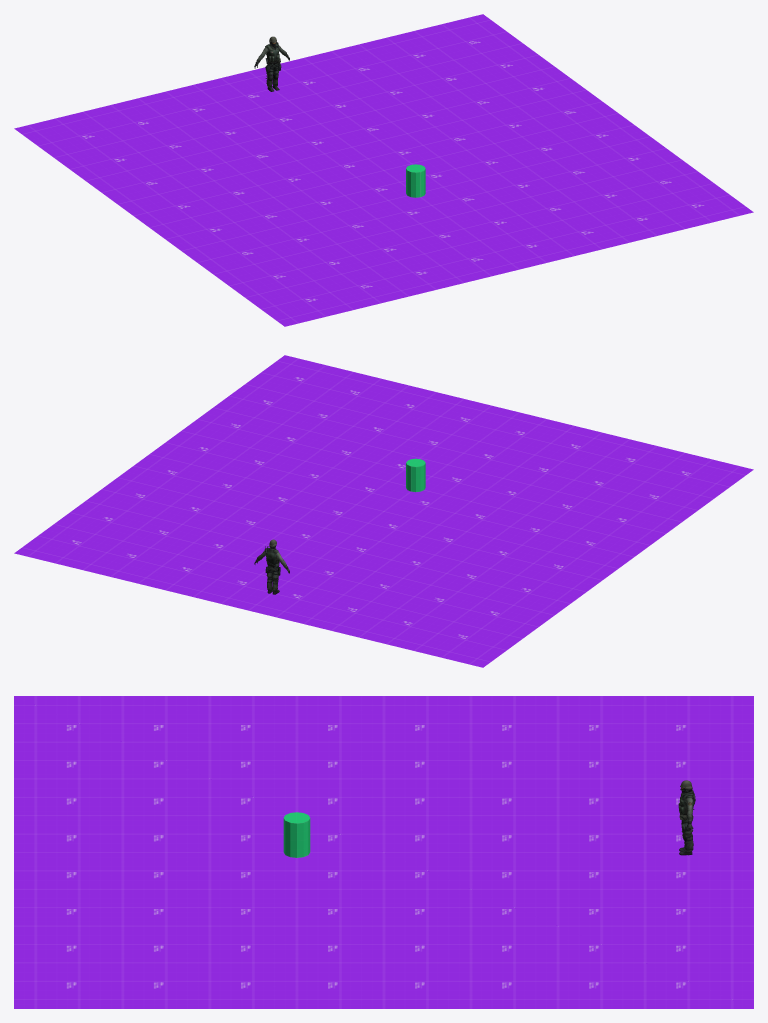
3 views of the same model, one above another, from view 1: azimuth 30°, elevation 25°; view 2: azimuth 150°, elevation 25°; view 3: azimuth 270°, elevation 25° (orthographic). The views are drawn at different scales.
Visible parts, largest first — view 1: Plane, Object_2, Cylinder; view 2: Plane, Object_2, Cylinder; view 3: Plane, Cylinder, Object_2.
Boxes of the visible parts, x1,y1,x2,y2 form: Plane: (14, 14, 753, 326); Object_2: (254, 36, 289, 91); Cylinder: (406, 164, 425, 197); Plane: (14, 355, 753, 667); Object_2: (254, 539, 289, 594); Cylinder: (406, 458, 425, 492); Plane: (14, 696, 753, 1008); Cylinder: (283, 812, 310, 857); Object_2: (678, 780, 695, 855).
Bounding box in the file's own units: 17 × 1.82 × 17.
Materials: 4 (4 with a texture image).
